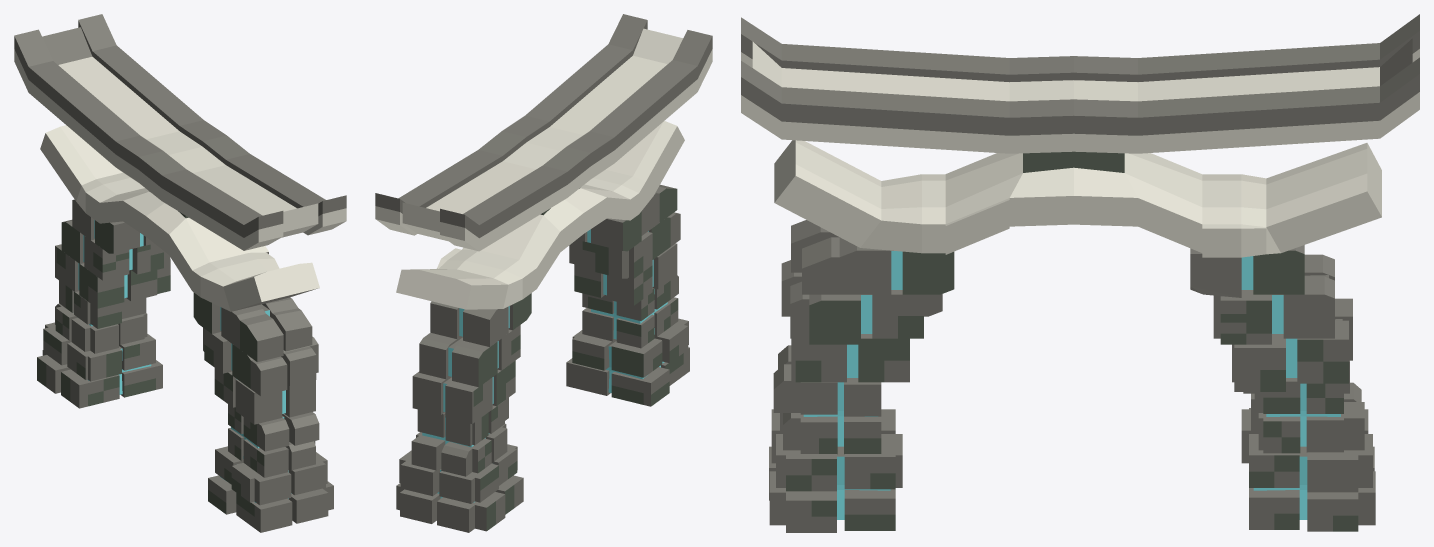
The model's file is arch.fbx.
3 views of the same model, side by side, from view 1: azimuth 30°, elevation 25°; view 2: azimuth 150°, elevation 25°; view 3: azimuth 270°, elevation 25° (orthographic). The views are drawn at different scales.
Parts seen in each view (by area): view 1: Cube.583; view 2: Cube.583; view 3: Cube.583.
Part boxes in pixels (box(x1,y1,x2,y2)): Cube.583: box(14, 14, 346, 532); Cube.583: box(375, 14, 712, 532); Cube.583: box(741, 14, 1419, 532).
Bounding box in the file's own units: 191 × 655 × 883.
